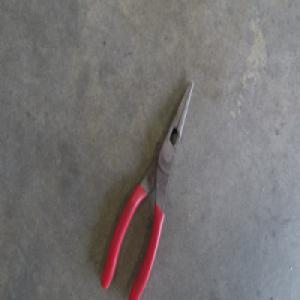Pliers: (100, 80, 193, 298)
